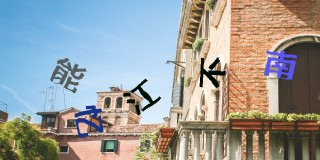不: (199, 56, 226, 89)
南: (264, 50, 297, 80)
忆: (74, 104, 105, 137)
江: (123, 79, 161, 116)
能: (49, 57, 86, 93)
